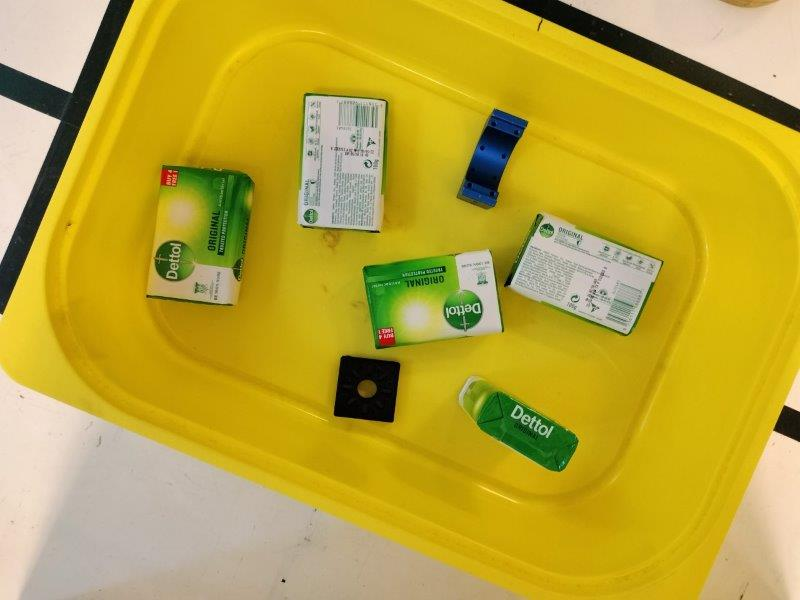Dettol: (506, 211, 665, 336), (147, 164, 255, 305), (364, 248, 506, 349), (295, 91, 390, 234), (463, 380, 581, 472)
